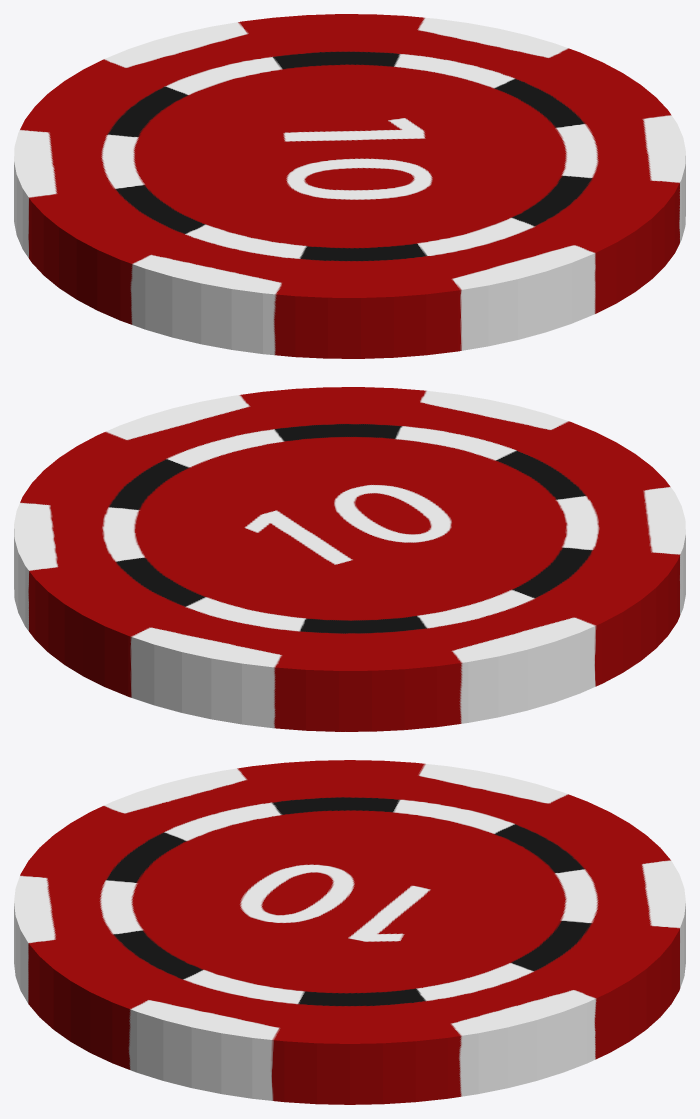
3 renders of one model, top to bottom at view 1: azimuth 30°, elevation 25°; view 2: azimuth 150°, elevation 25°; view 3: azimuth 270°, elevation 25°, orthographic.
Visible parts, largest first — view 1: Cylinder; view 2: Cylinder; view 3: Cylinder.
Boxes of the visible parts, x1=… form: Cylinder: x1=14, y1=14, x2=685, y2=358; Cylinder: x1=14, y1=387, x2=685, y2=731; Cylinder: x1=14, y1=760, x2=685, y2=1104.
Bounding box in the file's own units: 0.04 × 0.004 × 0.04.
Materials: 1 (1 with a texture image).
